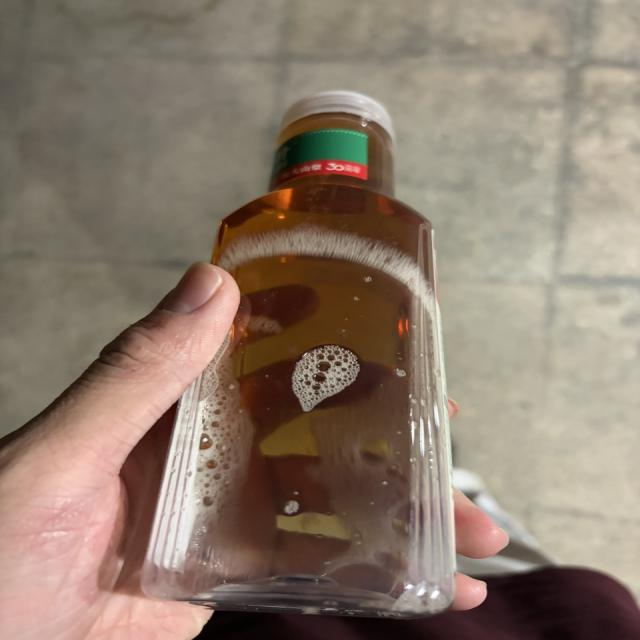medium: (142, 92, 455, 618)
